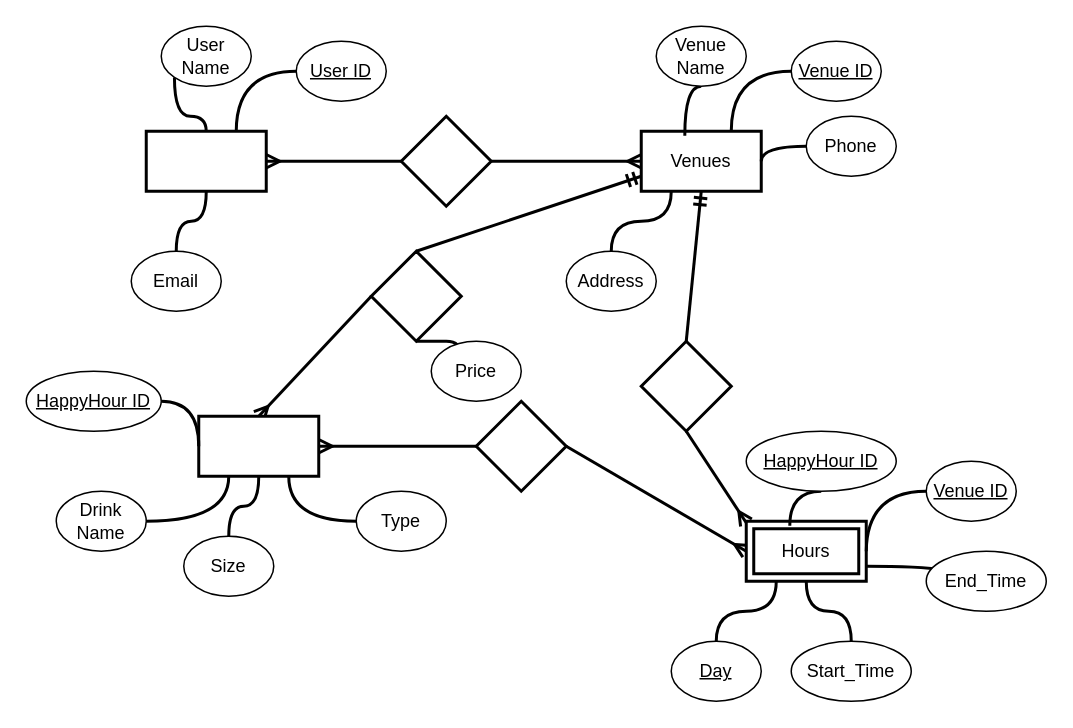
This 1073x728 diagram has some shape labels left out. The shapes that lost their labels are listed below. From the top down, each one's centre as x and y in pixels, then its label:
At [205,160]: "Users".
At [445,160]: "Favorites".
At [415,295]: "Sells".
At [685,385]: "Runs".
At [258,445]: "Drinks".
At [520,445]: "Offers".
